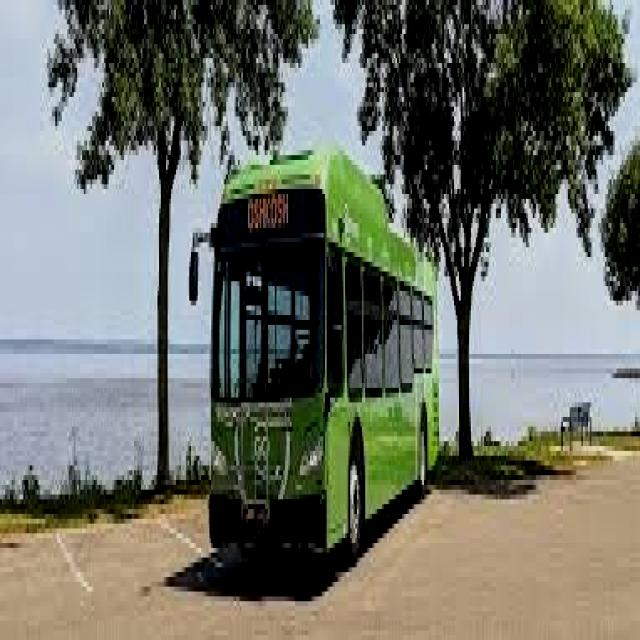bus: (213, 144, 444, 566)
